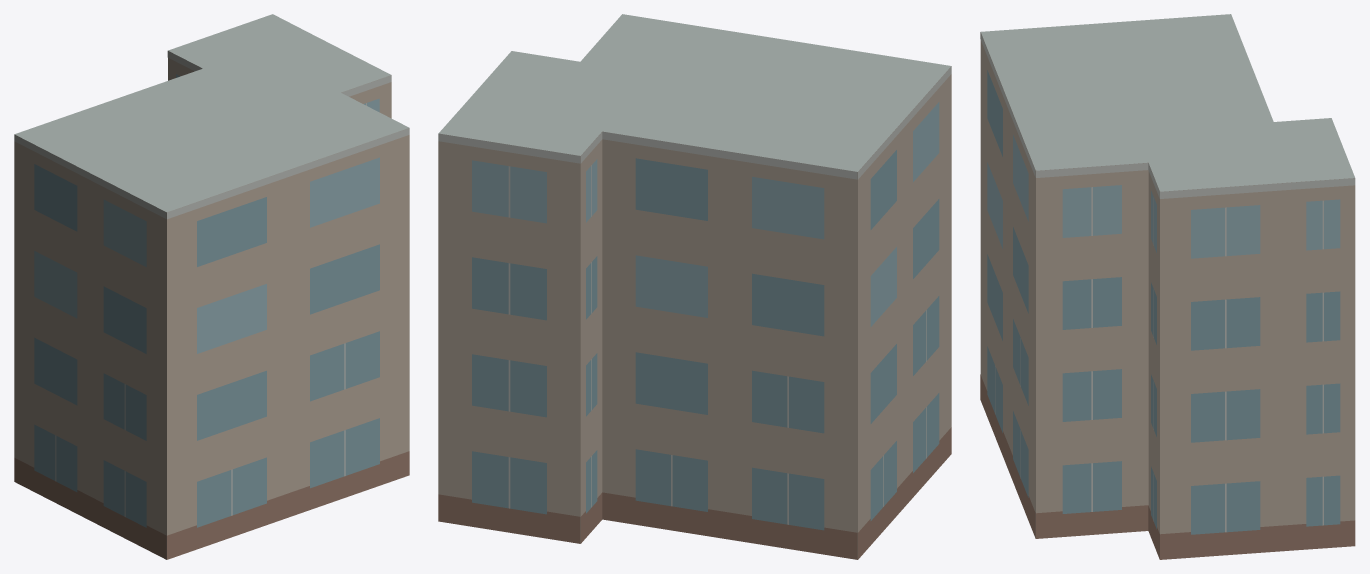
Rendered from residential-3564b9ff-a34b-4032-ad41-dc54fc4103e8.glb.
The picture shows the model from 3 angles, left to right: view 1: azimuth 30°, elevation 25°; view 2: azimuth 150°, elevation 25°; view 3: azimuth 270°, elevation 25°; orthographic projection. The views are drawn at different scales.
Parts seen in each view (by area): view 1: residential-3564b9ff-a34b-4032-ad41-dc54fc4103e8.tmp; view 2: residential-3564b9ff-a34b-4032-ad41-dc54fc4103e8.tmp; view 3: residential-3564b9ff-a34b-4032-ad41-dc54fc4103e8.tmp.
Boxes of the visible parts, bbox=[...] form: residential-3564b9ff-a34b-4032-ad41-dc54fc4103e8.tmp: bbox=[14, 14, 409, 559]; residential-3564b9ff-a34b-4032-ad41-dc54fc4103e8.tmp: bbox=[438, 14, 951, 559]; residential-3564b9ff-a34b-4032-ad41-dc54fc4103e8.tmp: bbox=[980, 14, 1355, 559].
Bounding box in the file's own units: 12.64 × 12.2 × 11.27.
